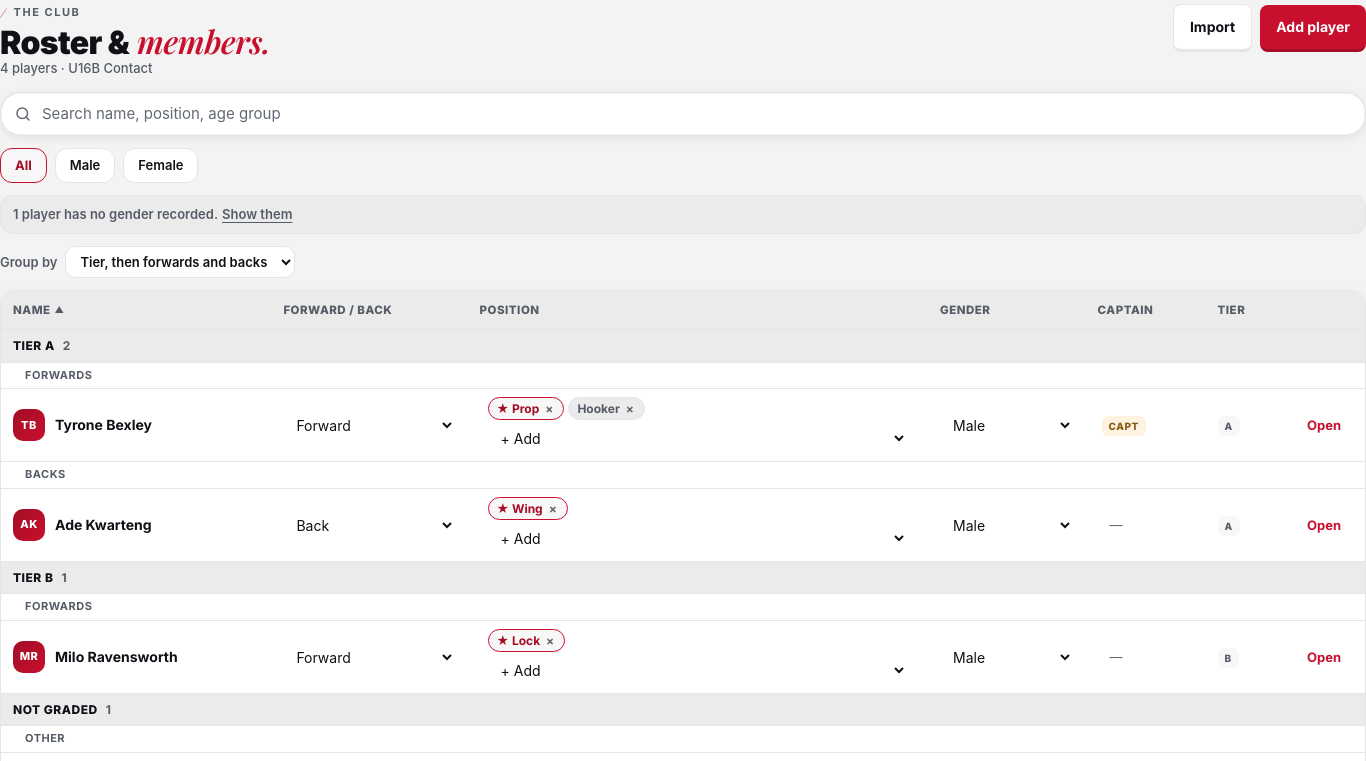
Test case: the gender gap nudges, and the nudge is clickable › can be cleared again
The image size is (1366, 761).
Click the button "1 player has no gender recorded.Show them": click(116, 214) [0,195,1365,234]
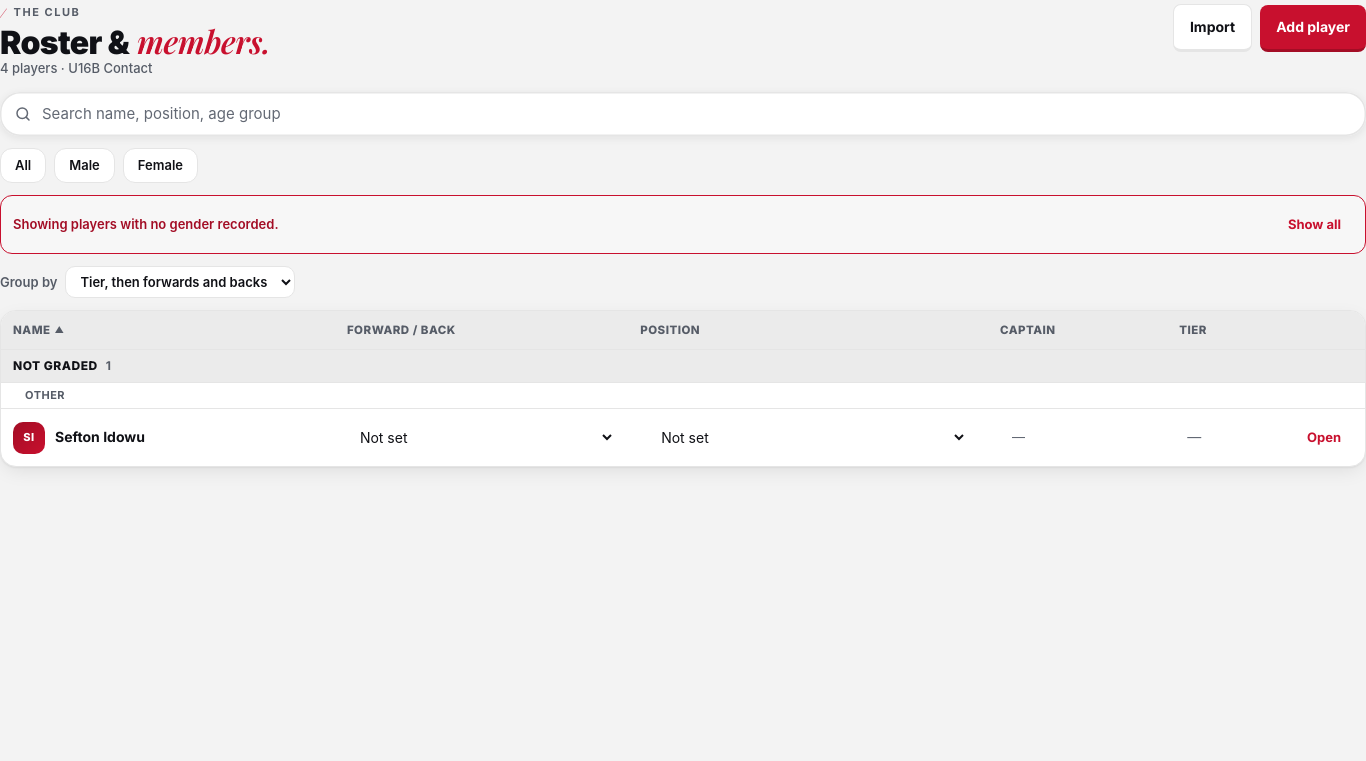
Click the button "Show all": click(1314, 225) [1276,204,1353,245]
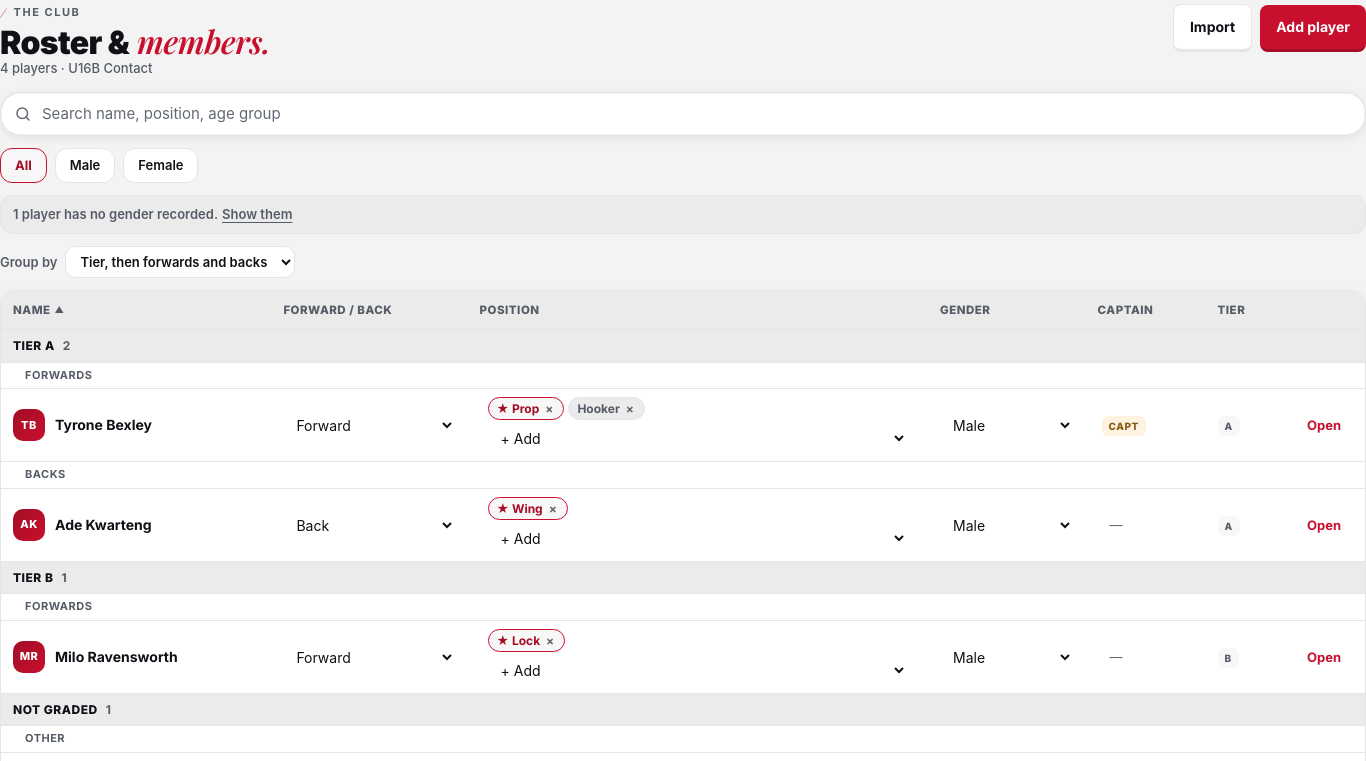
Check: the number of elements with test id "table-player-name" is 4
